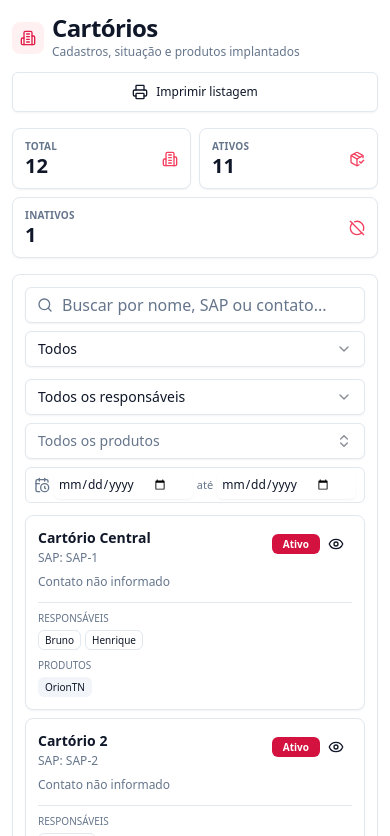
CS/CX — ações por permissão › permite visualizar o cadastro do cartório sem permissão de edição
Click the button named "visualizar cartório central".
click(336, 544)  # box x1=320 y1=528 x2=352 y2=560
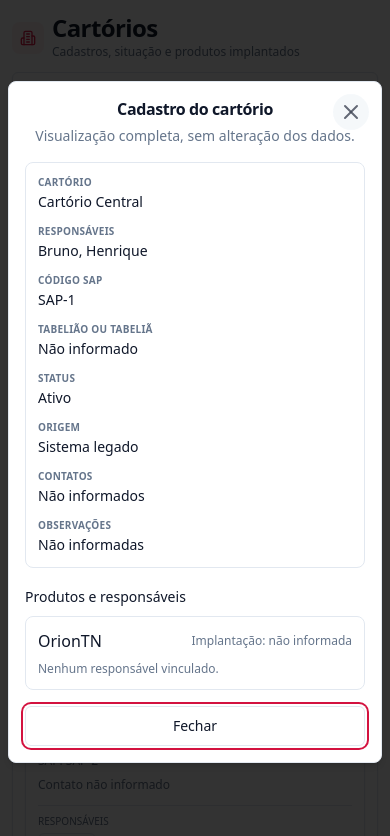
Result: the heading "Cadastro do cartório" is shown at x1=117 y1=98 x2=273 y2=120
Result: the text "Visualização completa, sem alteração dos dados." is shown at x1=25 y1=126 x2=365 y2=146
